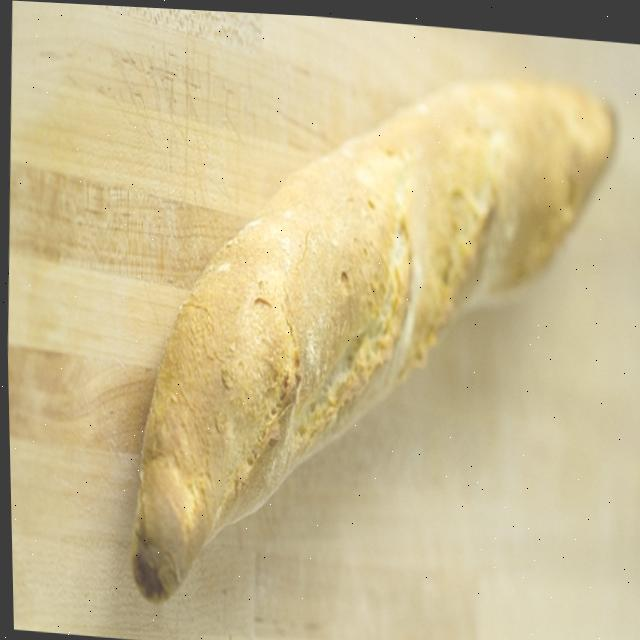面包点心: (65, 12, 640, 640)
